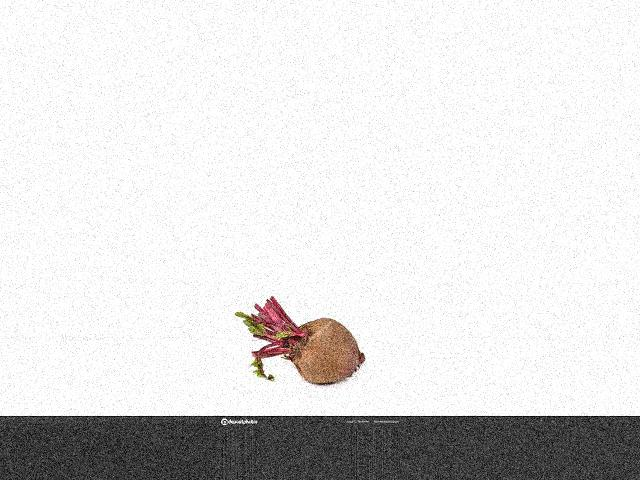beet: (235, 296, 365, 385)
